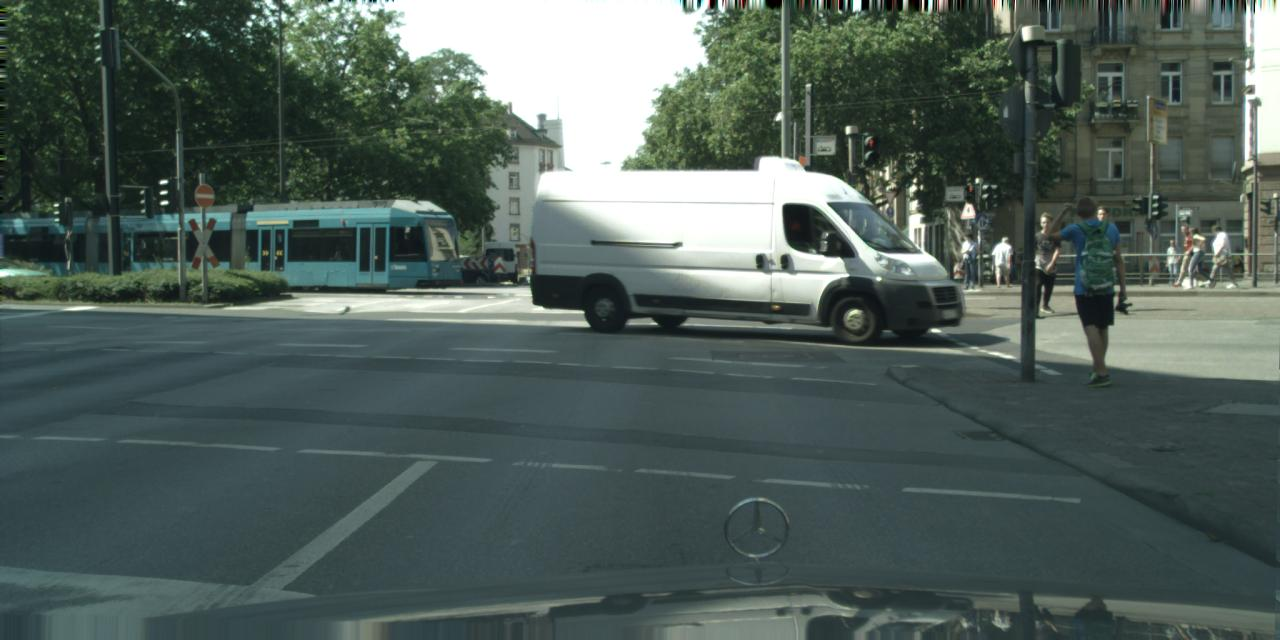ped: (1056, 197, 1133, 387), (1080, 205, 1122, 312), (1022, 212, 1064, 315), (1204, 224, 1229, 288), (1176, 225, 1200, 285), (1184, 227, 1208, 287), (956, 233, 980, 289), (994, 235, 1014, 288), (1164, 238, 1182, 286)
